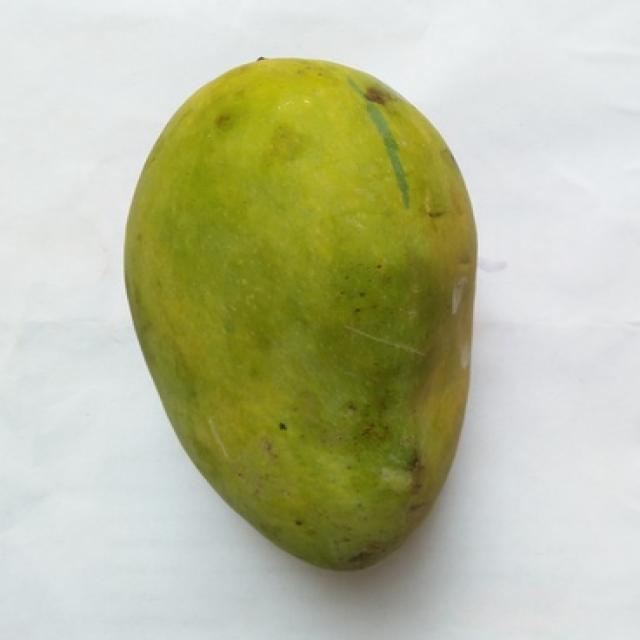Mango: (125, 58, 475, 567)
